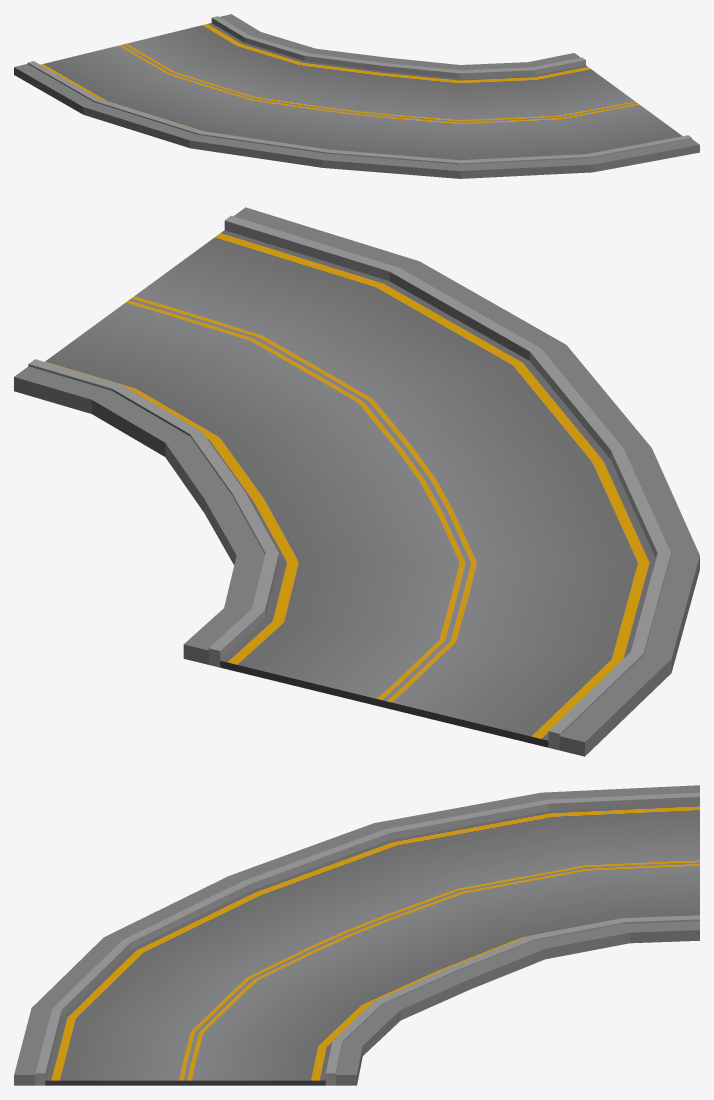
The model's file is Road1_Curve3.dae.
3 views of the same model, one above another, from view 1: azimuth 30°, elevation 25°; view 2: azimuth 150°, elevation 25°; view 3: azimuth 270°, elevation 25° (orthographic). The views are drawn at different scales.
Parts seen in each view (by area): view 1: Road1_Curve3; view 2: Road1_Curve3; view 3: Road1_Curve3.
Boxes of the visible parts, x1,y1,x2,y2 form: Road1_Curve3: (14,14,699,178); Road1_Curve3: (14,207,699,756); Road1_Curve3: (14,785,699,1085).
Size of the model in its own units: 24 by 24 by 0.4753.
Materials: 1 (1 with a texture image).
